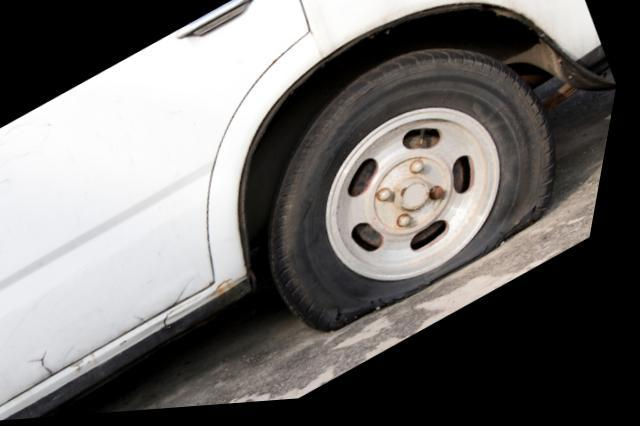tire flat: (278, 54, 564, 341)
